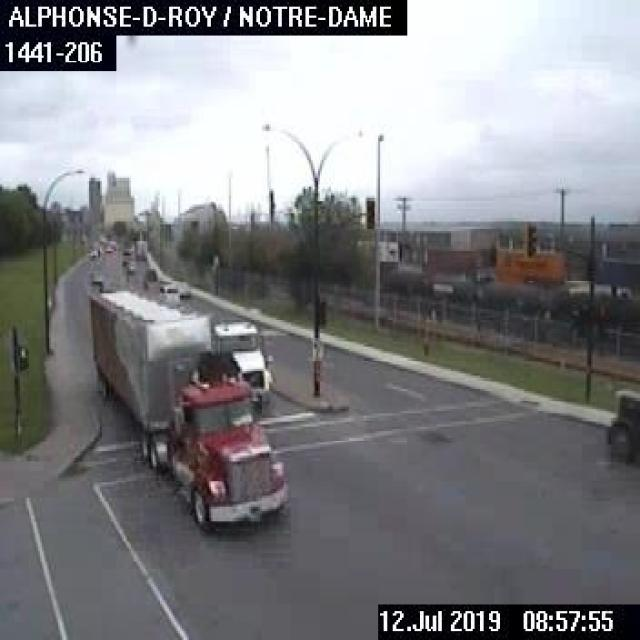vehicle: (87, 284, 291, 531), (208, 314, 276, 406), (607, 387, 638, 460), (157, 276, 190, 310), (86, 246, 102, 258)
